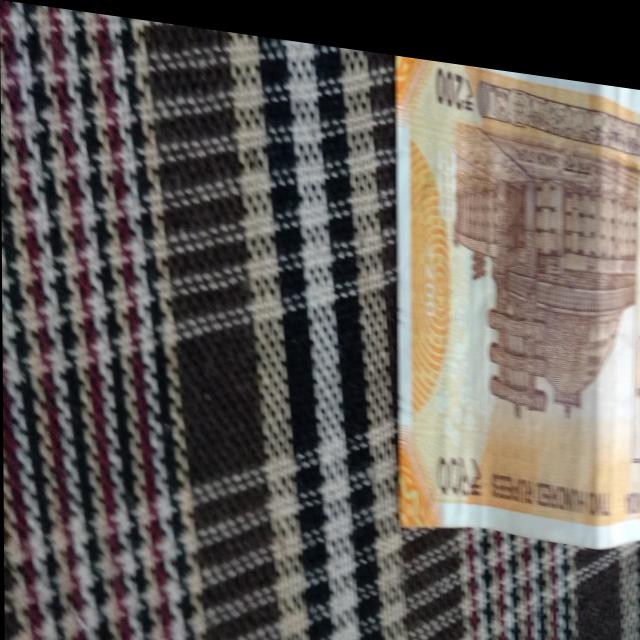Currency: (369, 41, 640, 541)
